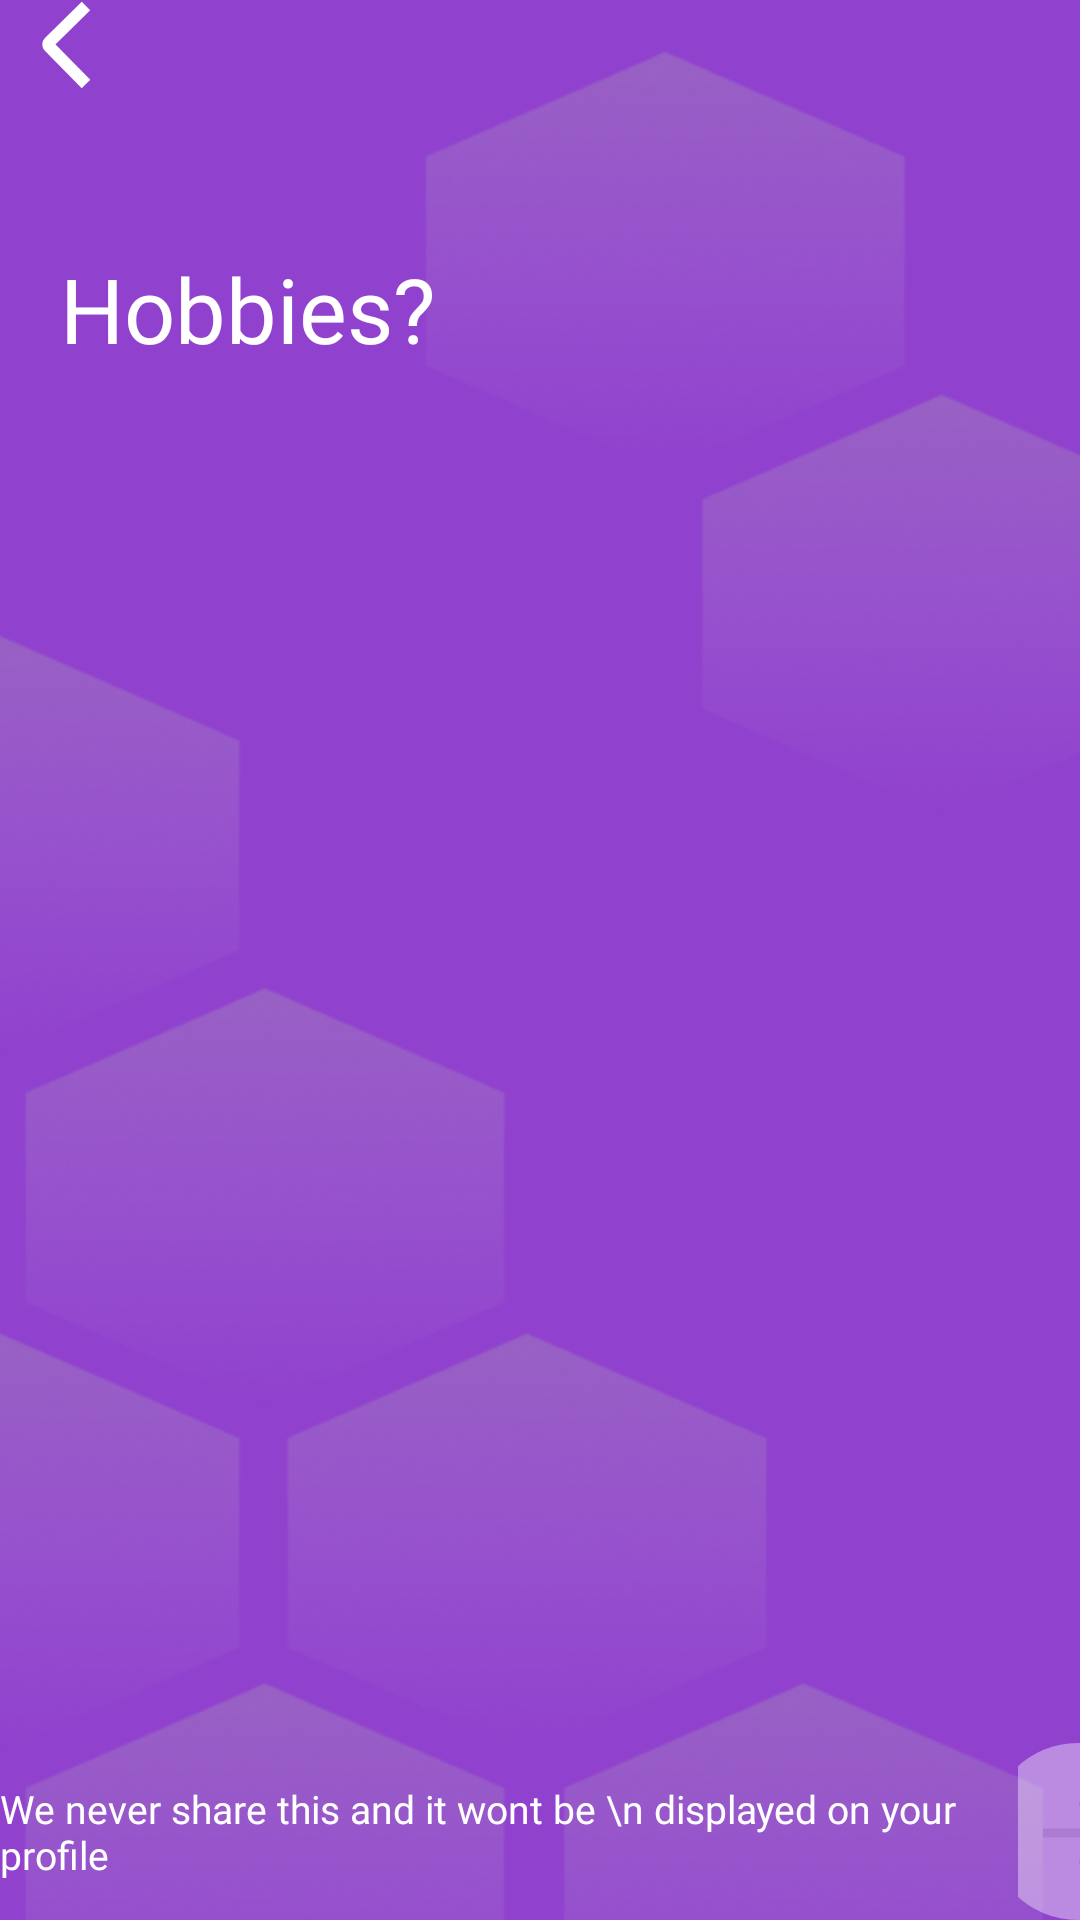

Where to tap for icons on this 1080 × 1920 app screen, as (x=x, y=y):
backbtn: (x=66, y=45)
